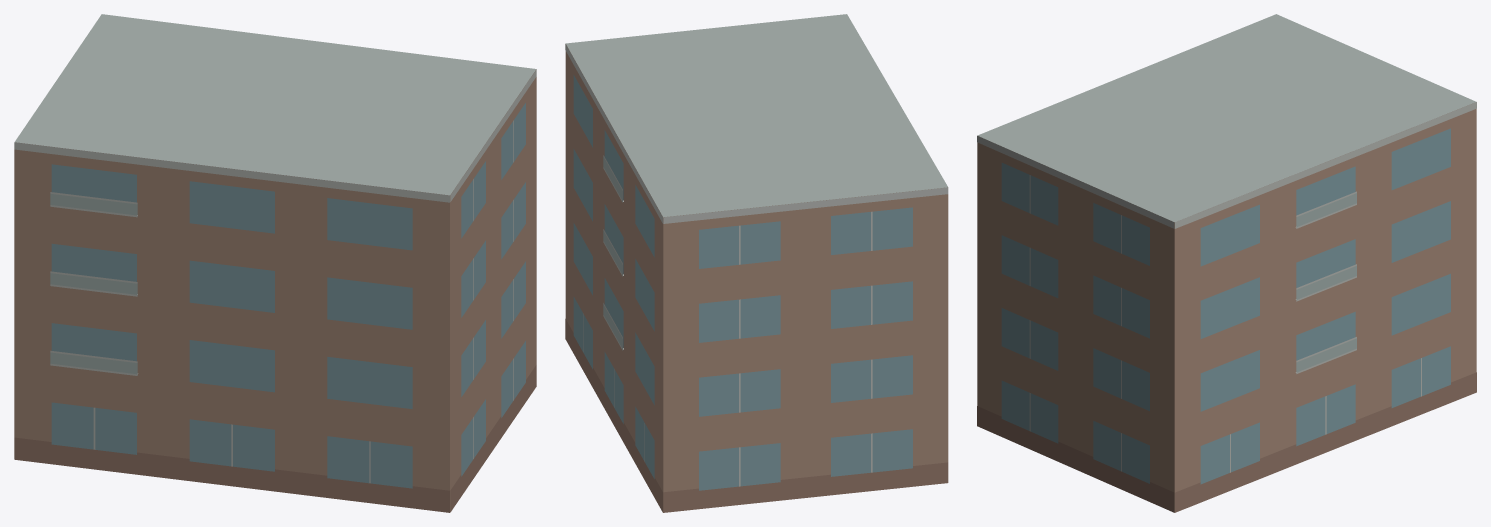
The model's file is survey-upis-32729283.glb.
3 renders of one model, left to right at view 1: azimuth 30°, elevation 25°; view 2: azimuth 150°, elevation 25°; view 3: azimuth 270°, elevation 25°, orthographic. The views are drawn at different scales.
Visible parts, largest first — view 1: survey-upis-32729283.tmp; view 2: survey-upis-32729283.tmp; view 3: survey-upis-32729283.tmp.
Part boxes in pixels (x1,y1,x2,y2): survey-upis-32729283.tmp: (14, 14, 536, 512); survey-upis-32729283.tmp: (565, 14, 948, 512); survey-upis-32729283.tmp: (977, 14, 1476, 512).
Size of the model in its own units: 16.23 by 10.55 by 16.45.
